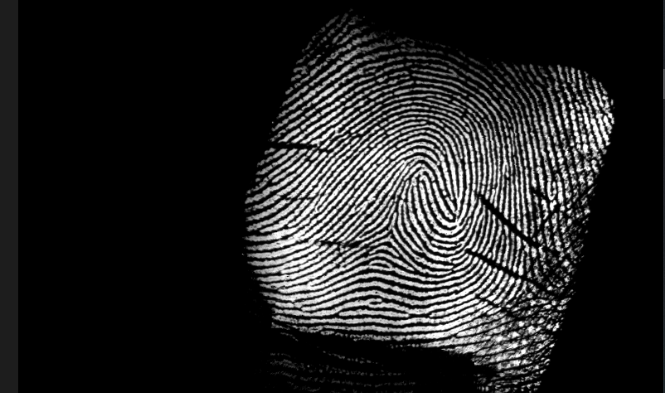nucelo: (411, 171, 431, 196)
verticilo: (373, 228, 400, 245), (512, 279, 535, 298)
